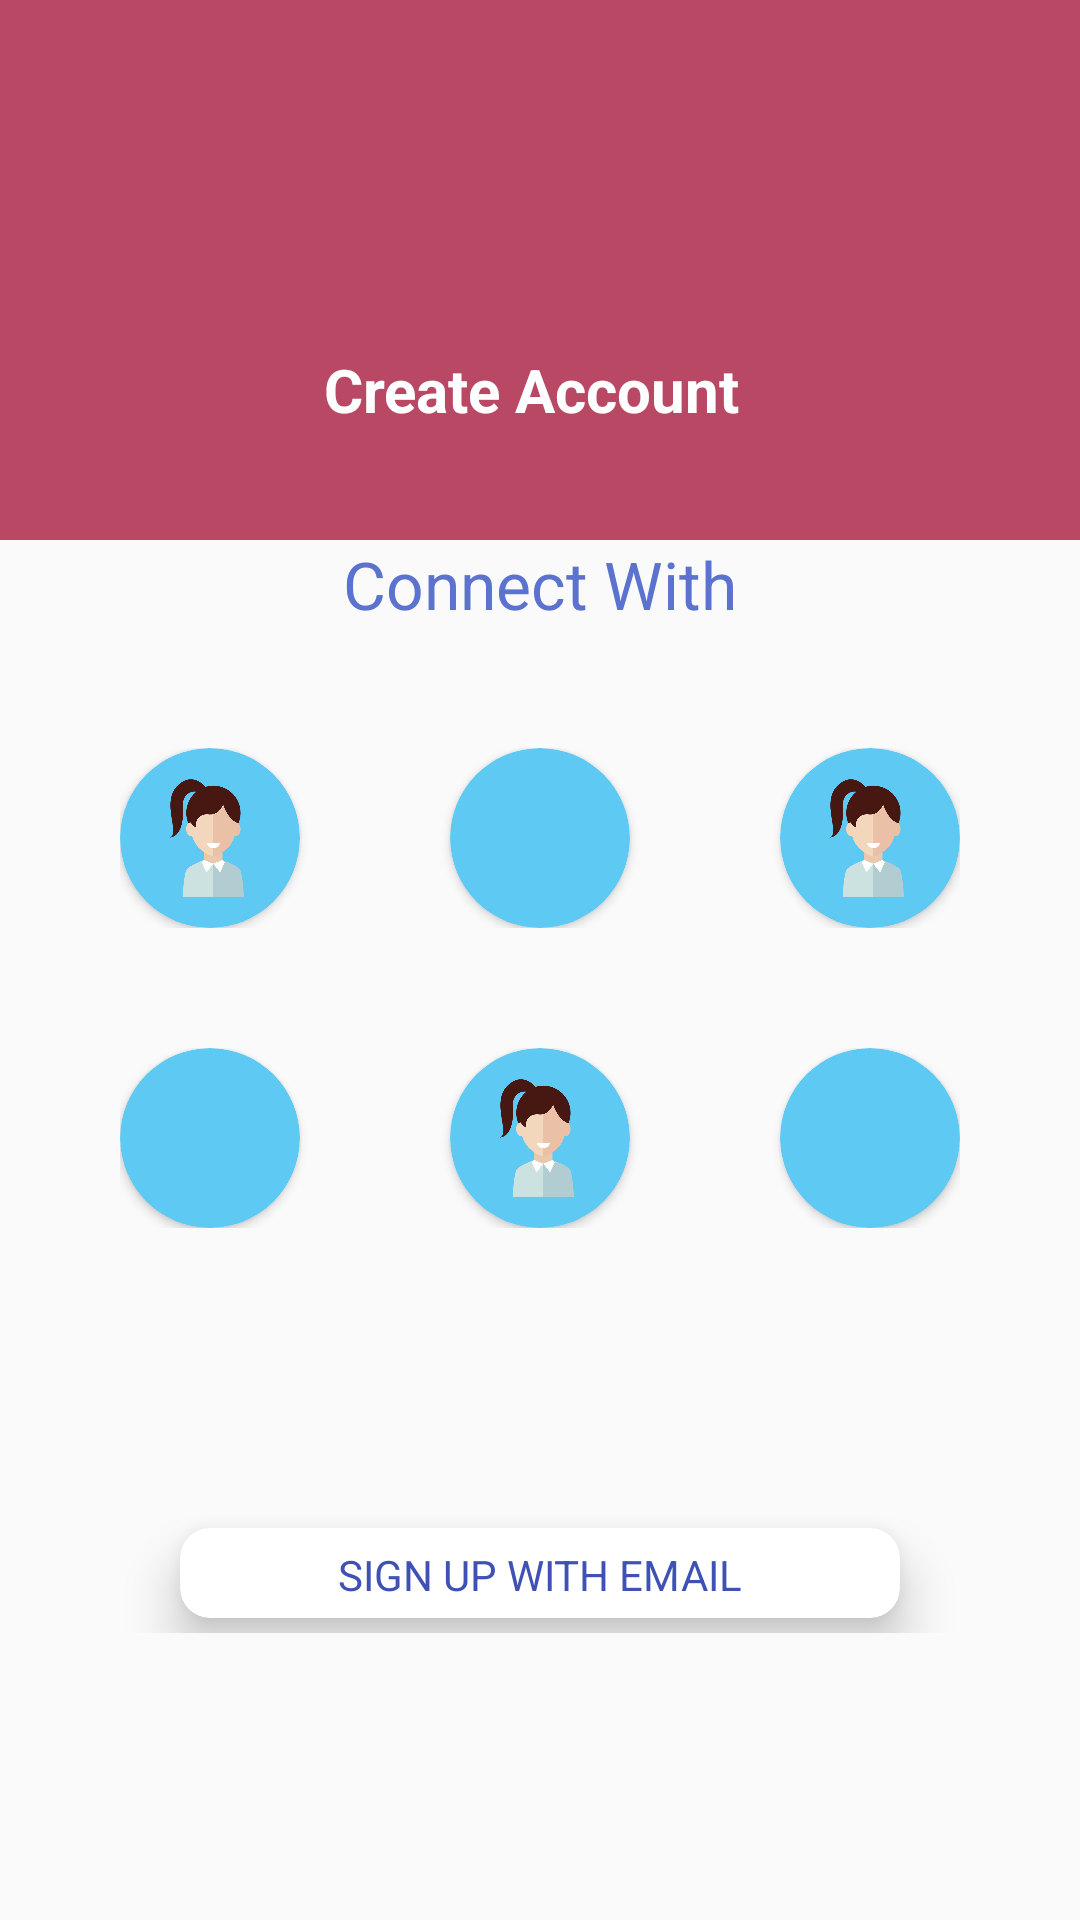

Screen size 1080 x 1920. Icon name, then its box in pixels as [left=x1, top=y1, right=x2, bottom=y2]:
student: [left=170, top=779, right=244, bottom=897], [left=830, top=779, right=904, bottom=897], [left=500, top=1079, right=574, bottom=1197]
